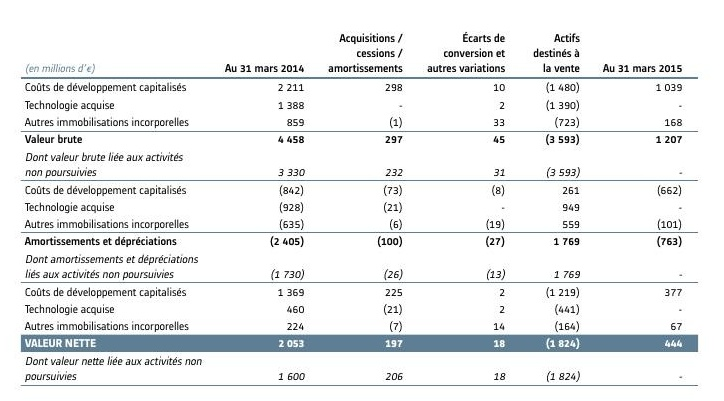table: (0, 0, 724, 401)
